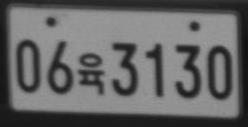0: (207, 44, 233, 99), (15, 39, 41, 92)
1: (143, 43, 170, 96)
3: (174, 43, 202, 98), (111, 42, 138, 96)
6: (47, 40, 74, 94)
육: (77, 52, 105, 94)
